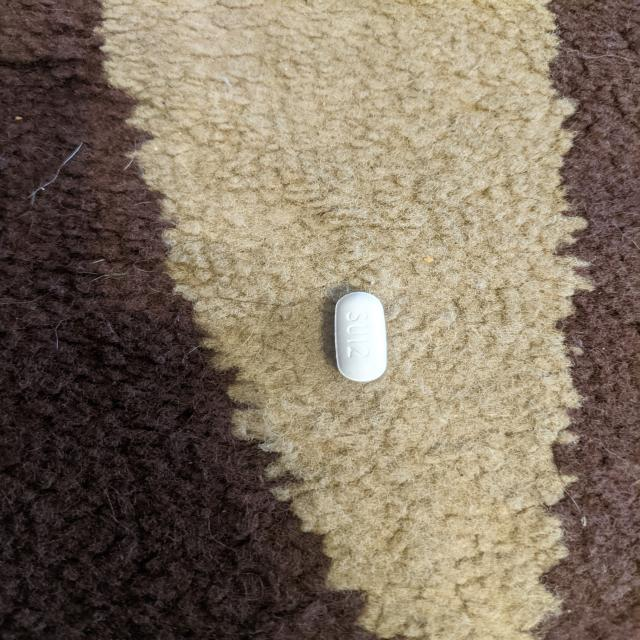non-organic waste: (333, 291, 388, 382)
